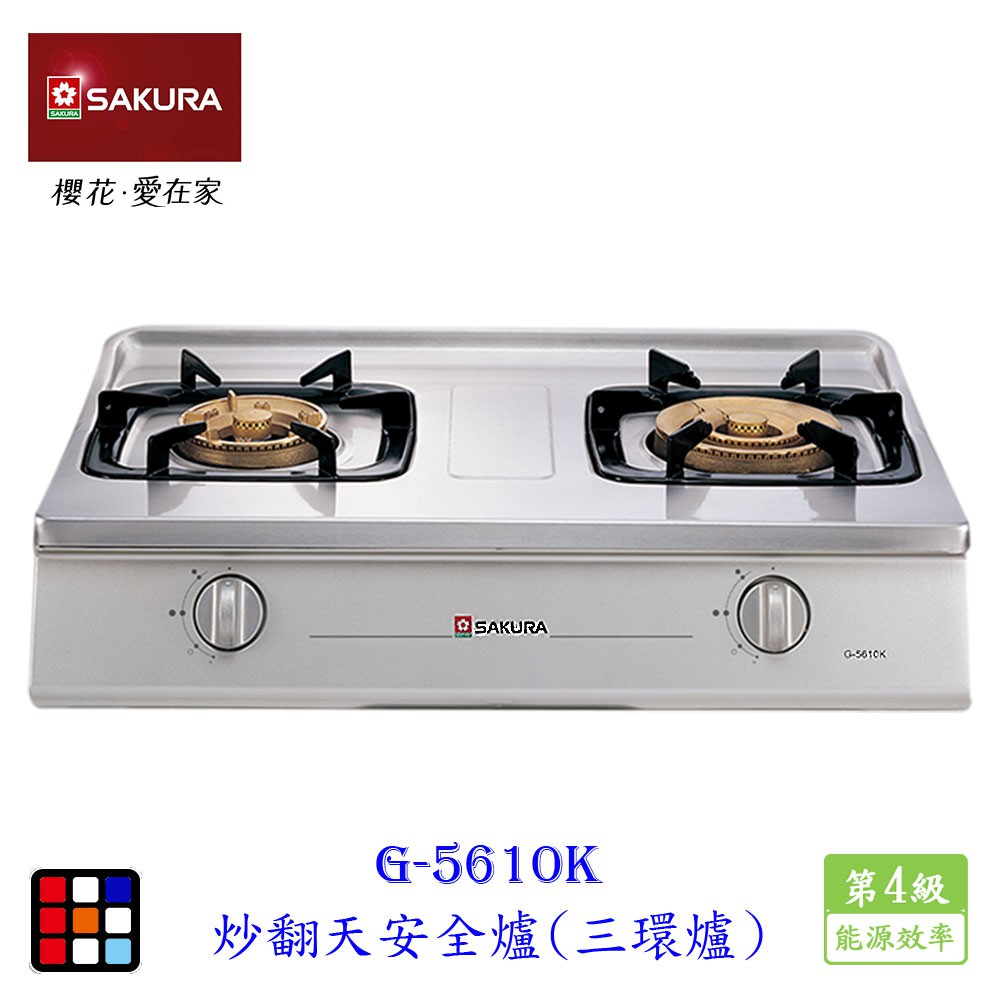gasoven: (26, 316, 979, 724)
